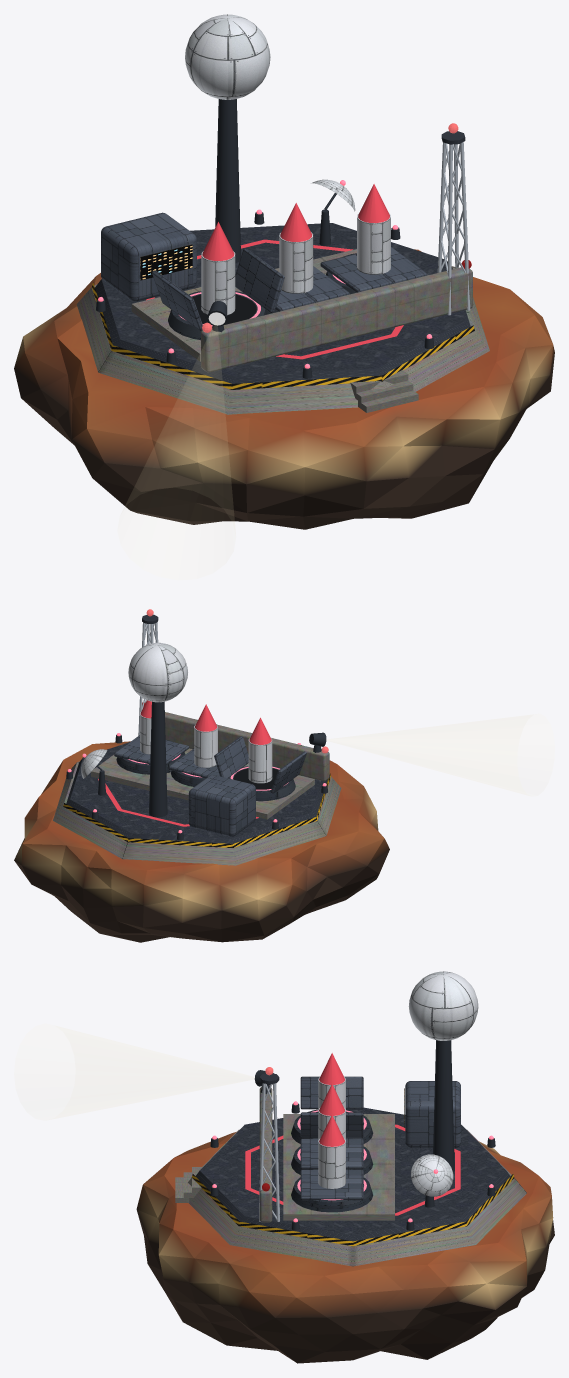
The model's file is silo-L75.glb.
3 views of the same model, one above another, from view 1: azimuth 30°, elevation 25°; view 2: azimuth 150°, elevation 25°; view 3: azimuth 270°, elevation 25° (orthographic). The views are drawn at different scales.
Visible parts, largest first — view 1: object 1, object 4, object 44, object 2, anim:cell (×3), object 52, object 47, anim:doorR (×3), object 51, object 3, anim:doorL (×2), object 25 (+5 smaller); view 2: object 1, object 4, object 2, object 47, anim:cell (×3), object 44, object 52, object 25, object 51, anim:doorR (×3), object 3, anim:doorL (×2) (+3 smaller); view 3: object 1, object 4, object 2, object 25, object 52, anim:cell (×3), anim:doorR (×3), object 47, anim:doorL (×3), object 51, object 3, anim:rot (+3 smaller).
Part boxes in pixels (x1,y1,x2,y2): object 1: (14, 249, 554, 529); object 4: (95, 223, 470, 383); object 44: (201, 267, 472, 372); object 2: (76, 266, 489, 414); anim:cell (×3): (201, 184, 390, 315); object 52: (185, 14, 270, 99); object 47: (101, 212, 196, 301); anim:doorR (×3): (235, 247, 427, 312); object 51: (215, 99, 240, 263); object 3: (91, 282, 474, 389); anim:doorL (×2): (152, 254, 392, 330); object 25: (131, 249, 428, 361); object 1: (14, 741, 389, 942); object 4: (66, 743, 327, 843); object 2: (53, 761, 341, 865); object 47: (188, 774, 255, 836); anim:cell (×3): (140, 700, 272, 783); object 44: (165, 712, 329, 781); object 52: (128, 642, 187, 702); object 25: (91, 748, 314, 819); object 51: (149, 701, 167, 817); anim:doorR (×3): (114, 735, 248, 778); object 3: (63, 773, 330, 847); anim:doorL (×2): (138, 740, 306, 793); object 1: (136, 1132, 554, 1363); object 4: (195, 1107, 510, 1241); object 2: (188, 1129, 526, 1266); object 25: (283, 1114, 394, 1220); object 52: (408, 971, 478, 1040); anim:cell (×3): (318, 1053, 345, 1188); anim:doorR (×3): (300, 1112, 363, 1200); object 47: (405, 1081, 460, 1147); anim:doorL (×3): (300, 1076, 363, 1184); object 51: (433, 1040, 454, 1172); object 3: (191, 1174, 514, 1246); anim:rot: (411, 1154, 453, 1196).
Size of the model in its own units: 7.58 by 5.28 by 7.76.
Materials: 17 (7 with a texture image).
